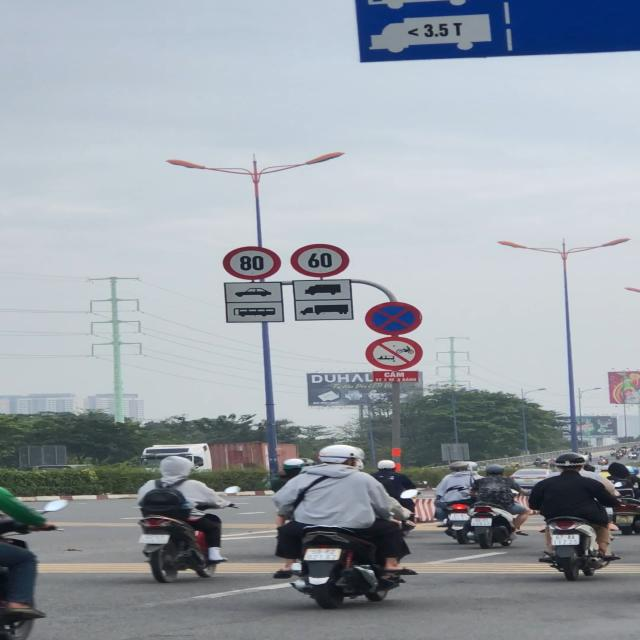Bien bao cam dung xe va do xe: (362, 301, 423, 338)
Bien bao toc do toi da cho phep: (222, 245, 284, 282), (291, 242, 354, 278)
